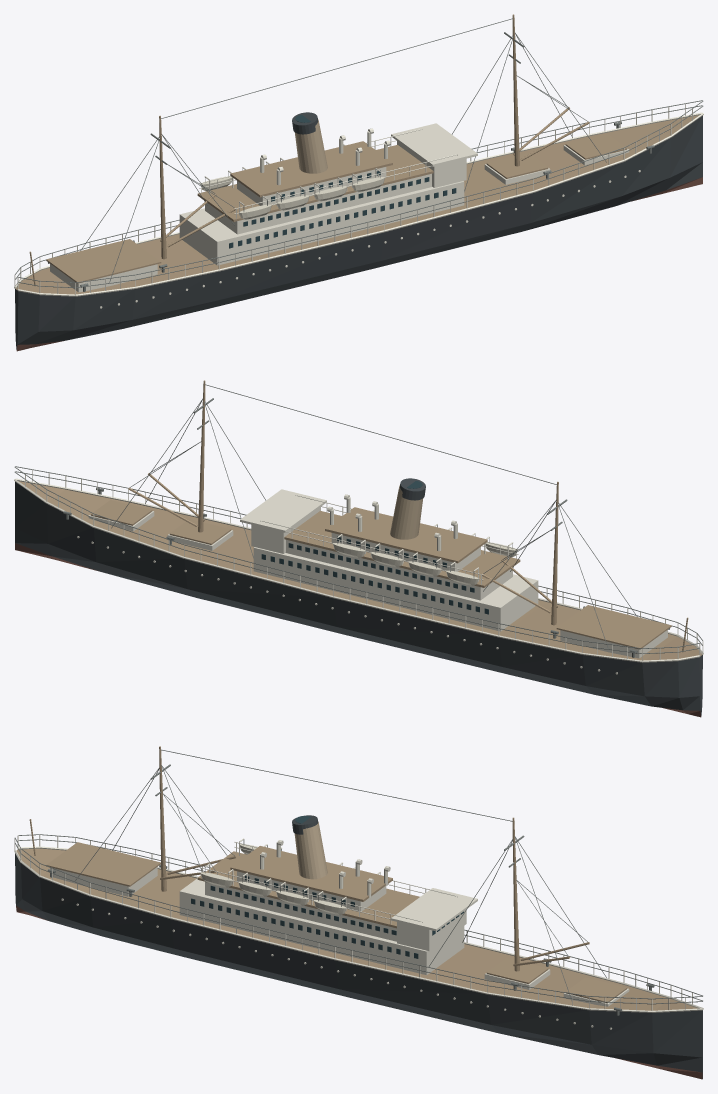
File: toscana.glb
The picture shows the model from 3 angles, top to bottom: view 1: azimuth 30°, elevation 25°; view 2: azimuth 150°, elevation 25°; view 3: azimuth 330°, elevation 25°; orthographic projection.
Visible parts, largest first — view 1: Toscana — reconstrucción aproximada; view 2: Toscana — reconstrucción aproximada; view 3: Toscana — reconstrucción aproximada.
Part boxes in pixels (left/top/right/bottom): Toscana — reconstrucción aproximada: left=14, top=14, right=703, bottom=351; Toscana — reconstrucción aproximada: left=14, top=380, right=703, bottom=717; Toscana — reconstrucción aproximada: left=14, top=746, right=703, bottom=1079.
Size of the model in its own units: 1 by 0.3 by 0.1269.
